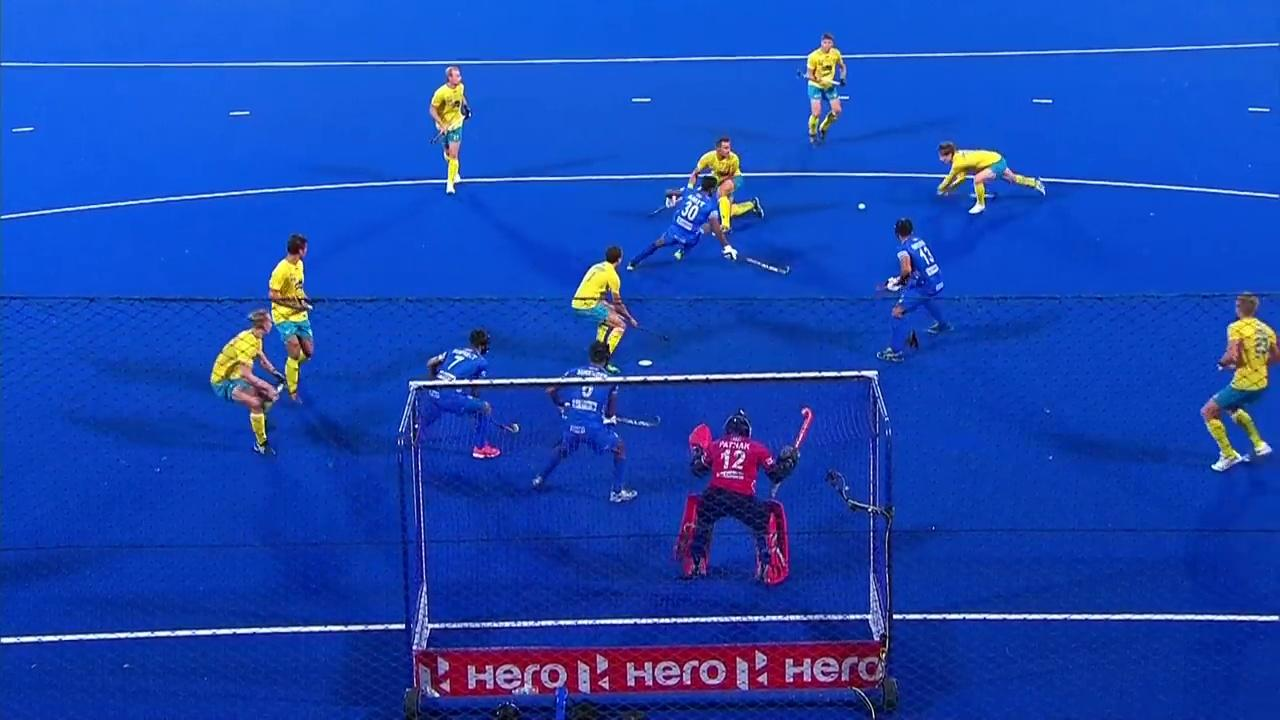ball: (853, 199, 868, 215)
